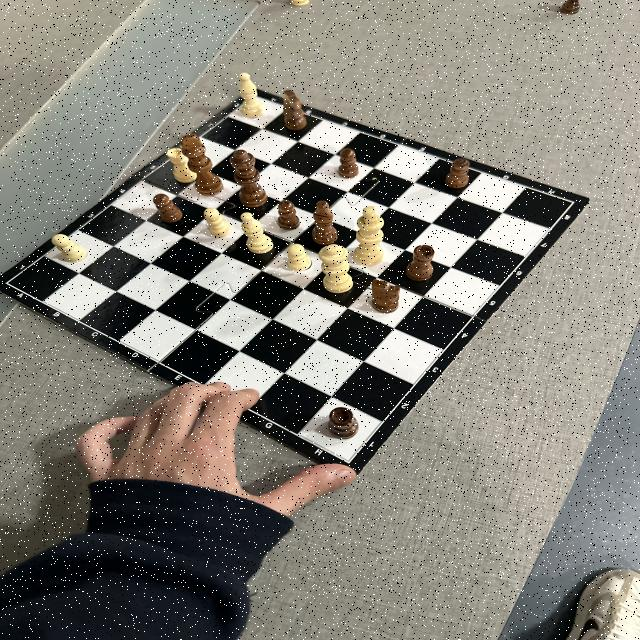Black-Bishop: (312, 200, 338, 244)
Black-King: (180, 134, 224, 196)
Black-Knight: (281, 90, 307, 130), (371, 280, 401, 314)
Black-Pawn: (152, 193, 184, 223), (444, 158, 470, 188), (277, 200, 300, 230), (338, 148, 358, 178)
Black-Queen: (228, 150, 268, 208)
Black-Rook: (405, 244, 435, 281), (328, 406, 358, 439)
White-Bishop: (242, 212, 274, 254), (238, 72, 264, 118)
White-King: (352, 206, 384, 266)
White-Pawn: (52, 235, 88, 262), (204, 208, 232, 238), (288, 244, 312, 272)
White-Queen: (318, 244, 353, 294)
White-Rook: (167, 148, 197, 184)
